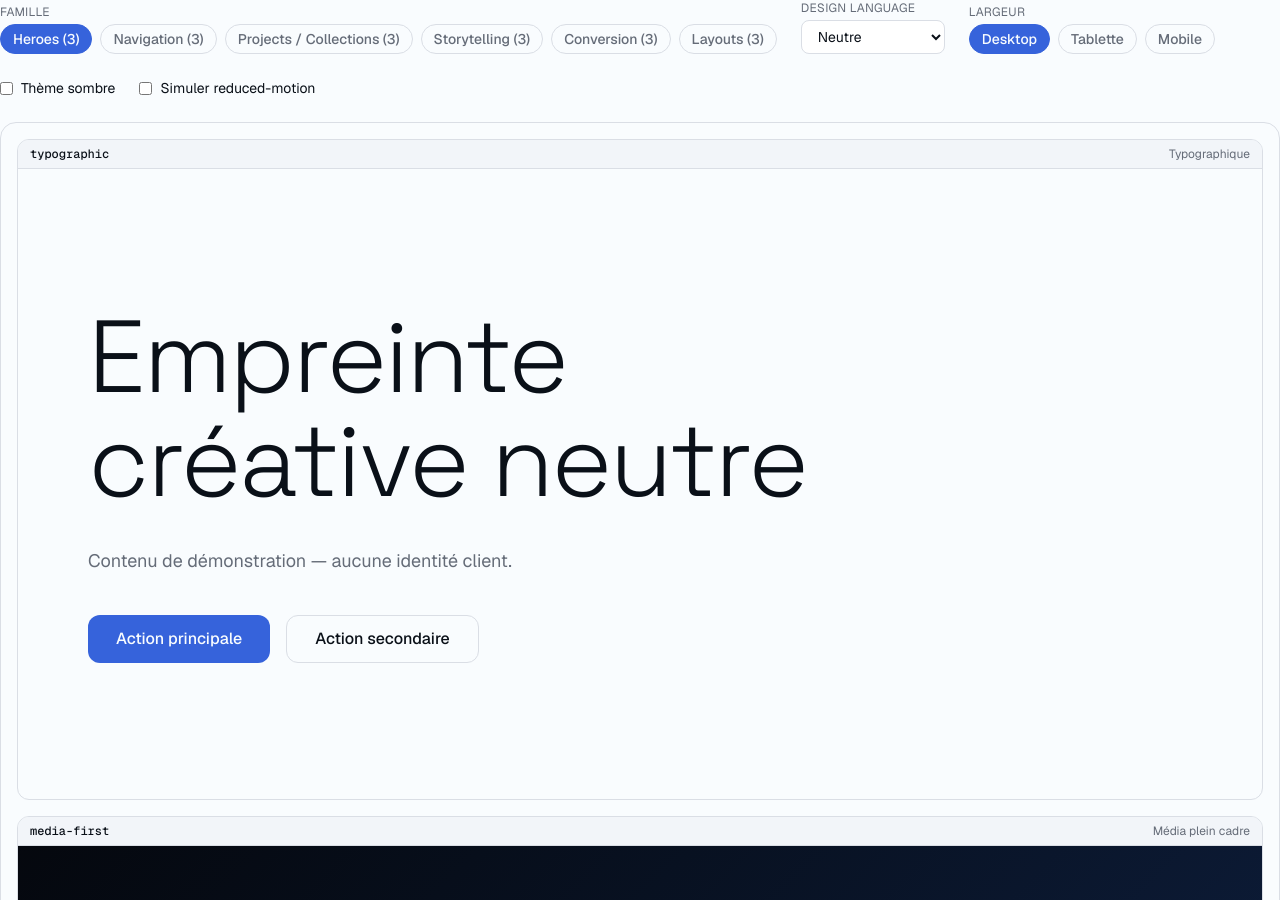
Studio — RecipeMatrix › switches family and renders that family's recipes
Click the button "Navigation (3)": (158, 39) [100,24,217,54]
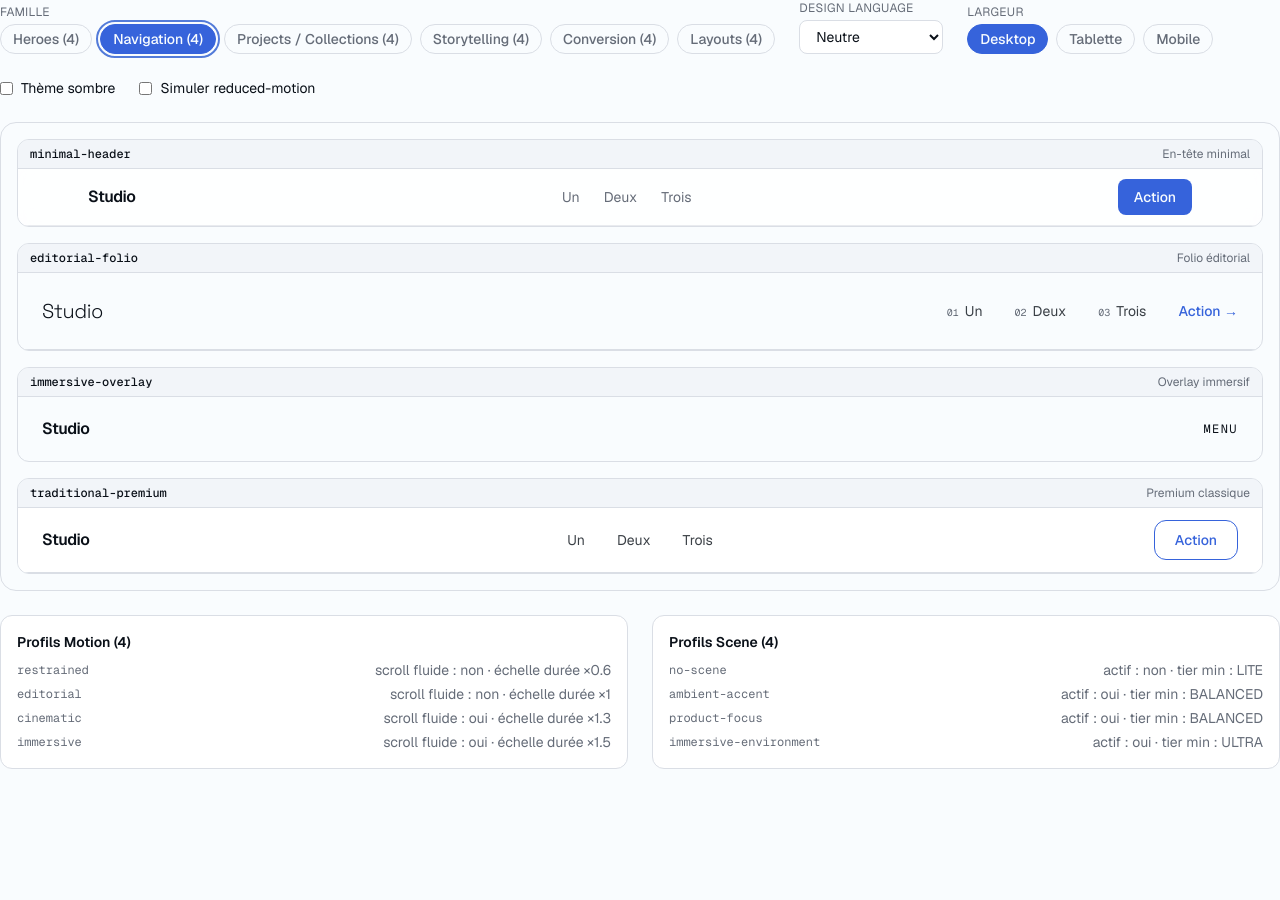
Result: the text "minimal-header" is shown at [30,146,131,162]
Result: the text "editorial-folio" is shown at [30,250,138,266]
Result: the text "typographic" is gone
